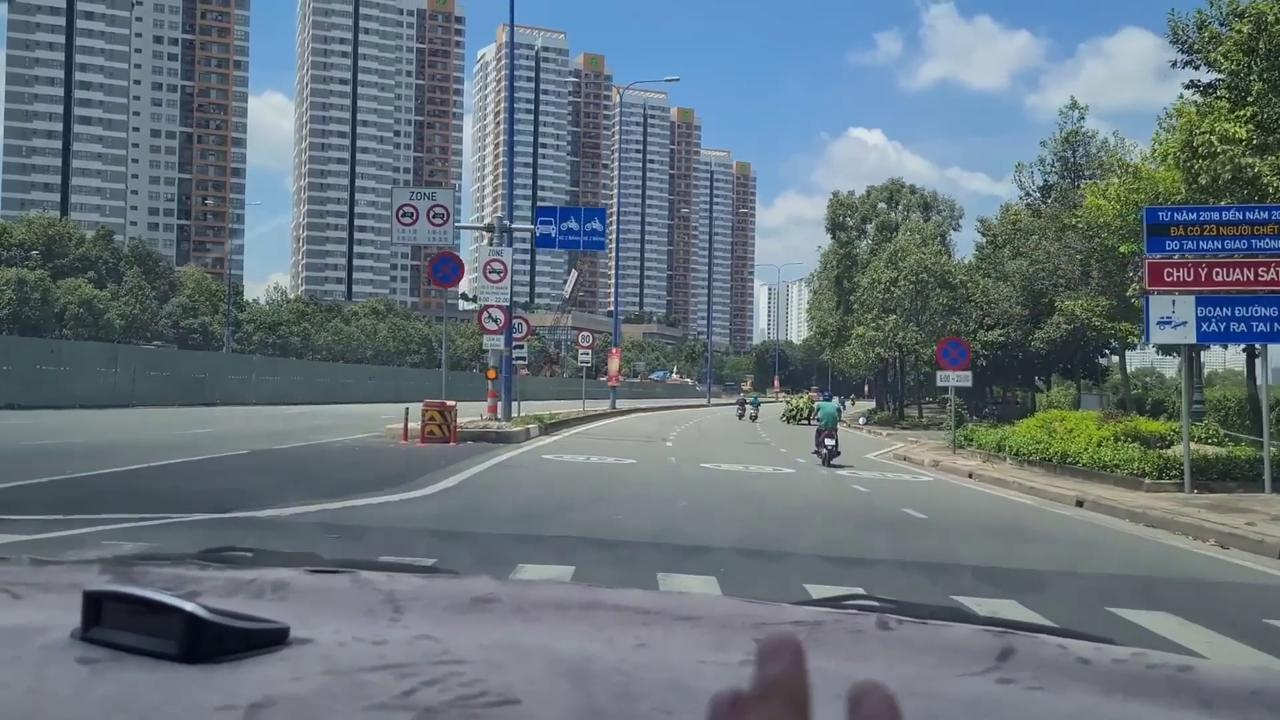Biển phụ: (934, 370, 974, 388), (510, 342, 528, 364), (482, 334, 506, 350), (578, 348, 592, 368)
Cấm cac phương tiện hoạt động trong khung giờ cố định: (390, 186, 455, 246), (477, 246, 511, 307)
Cấm dừng - Cấm đỗ: (426, 251, 466, 289), (935, 336, 973, 370)
Cấm xe máy: (478, 304, 508, 334)
GIơi hạn tốc độ 60Km/h: (509, 314, 530, 340), (576, 330, 594, 348)
Khác: (1139, 203, 1280, 343)
Làn đường cho từng xe: (534, 205, 607, 252)
